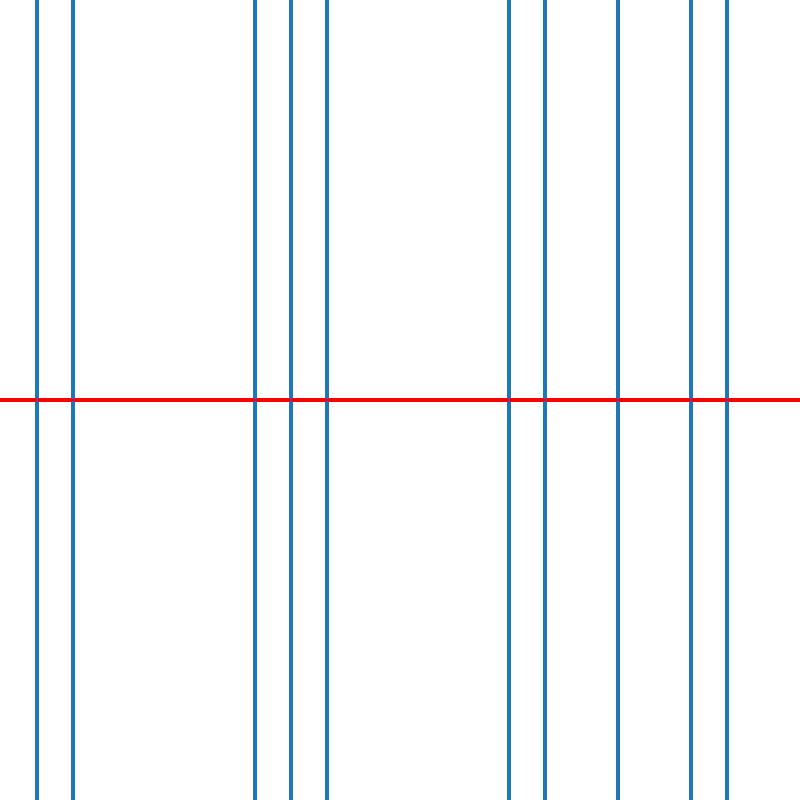root: (32, 396, 40, 404), (541, 396, 549, 404), (250, 396, 258, 404), (505, 396, 512, 404), (687, 396, 694, 404), (287, 396, 294, 404), (69, 396, 76, 404), (614, 396, 621, 404), (723, 396, 730, 404), (323, 396, 330, 404)
